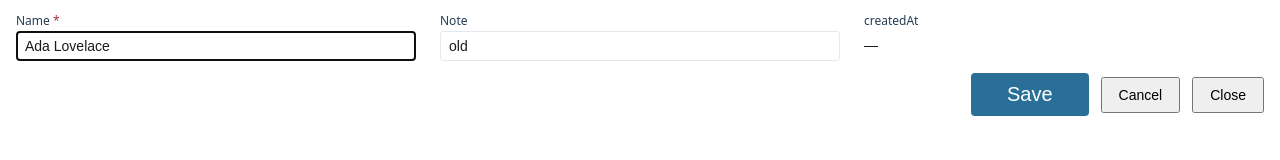
Scenario: saving (REQ-032/033, DB-S12) › PATCHes only the changed fields with rowVersion, then rebases
Replace the text in the field labelled "Name *" with "Grace" at (216, 46), box [16,31,416,61]
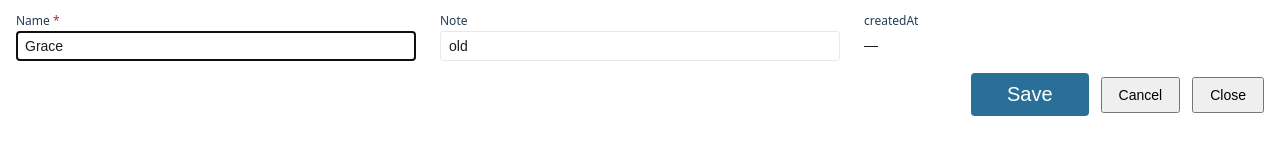
Click the button "Save".
click(1030, 94)  # box [971,73,1089,116]
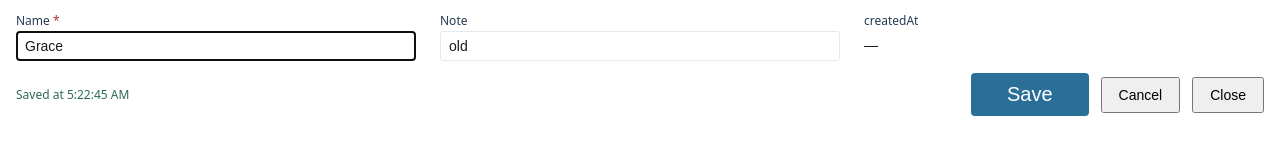
expect the text "Saved at 5:22:45 AM" is shown: met, box [16,86,129,103]
